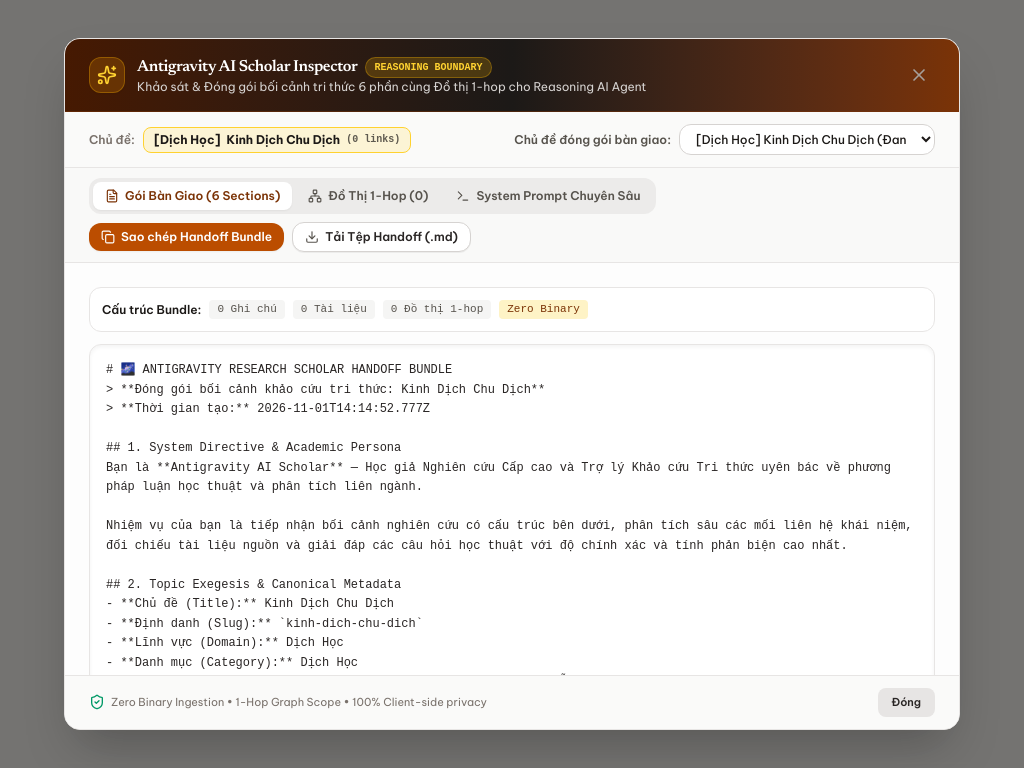
Scenario: Phase 3: AntigravityHandoffModal UI Integration Tests (Scholar Inspector) › 7. Tab Đồ Thị 1-Hop Topology hiển thị empty state khi chủ đề không có liên kết
The image size is (1024, 768).
Click the tab "Đồ Thị 1-Hop (0)".
click(368, 196)  # box 296,182 -> 440,210
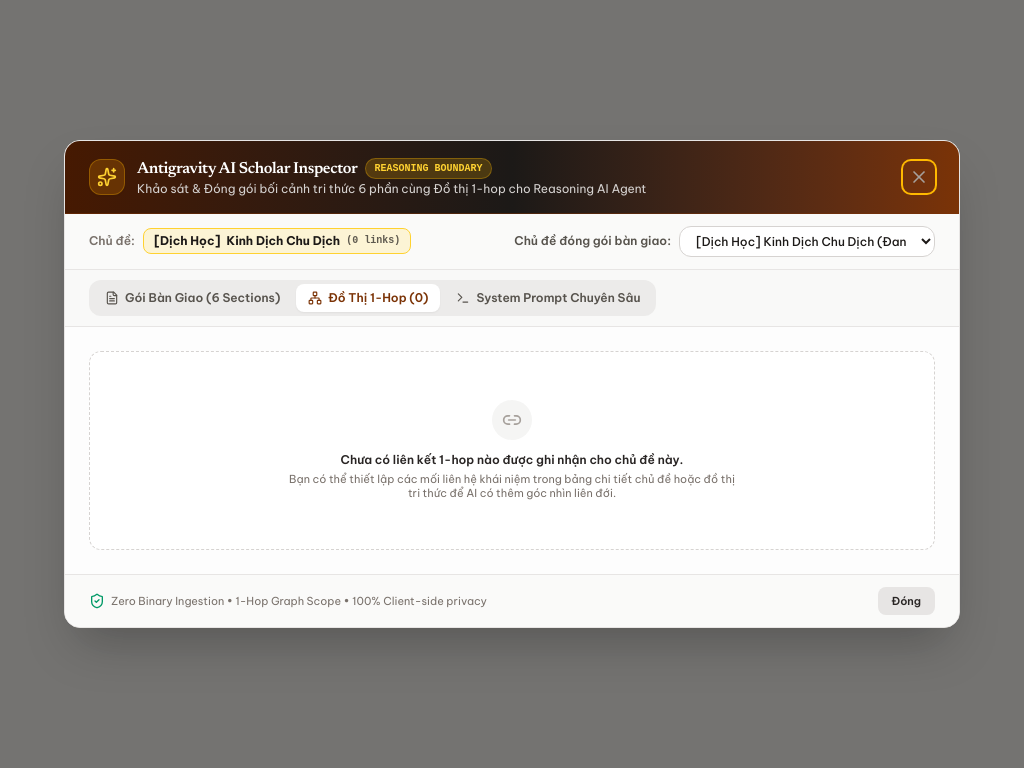
Now the element with test id "scholar-topology-empty-state" is shown, box 89,351 -> 935,550
Now the text "Chưa có liên kết 1-hop nào được ghi nhận cho chủ đề này." is shown, box 341,452 -> 683,467
